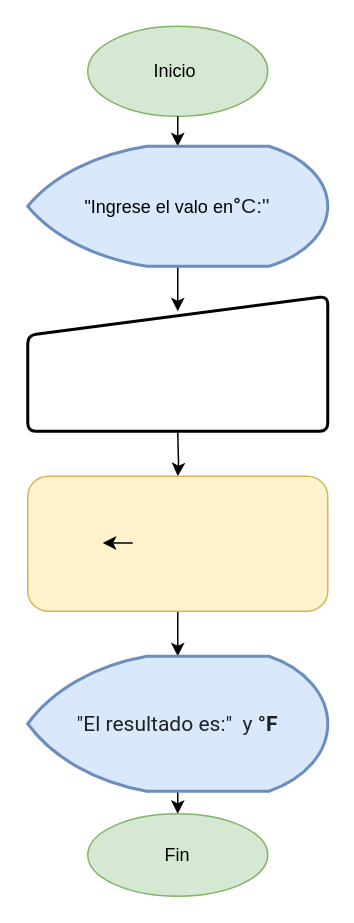
The diagram is 354 pixels wide and 923 high, and some of its shapes have lost their labels. The box of each missing label's shape, as (x1, y1, x2, y2) in pixels:
x °C: (26, 294, 328, 432)
y°F (x °C x 9/5) + 32: (26, 475, 328, 611)
